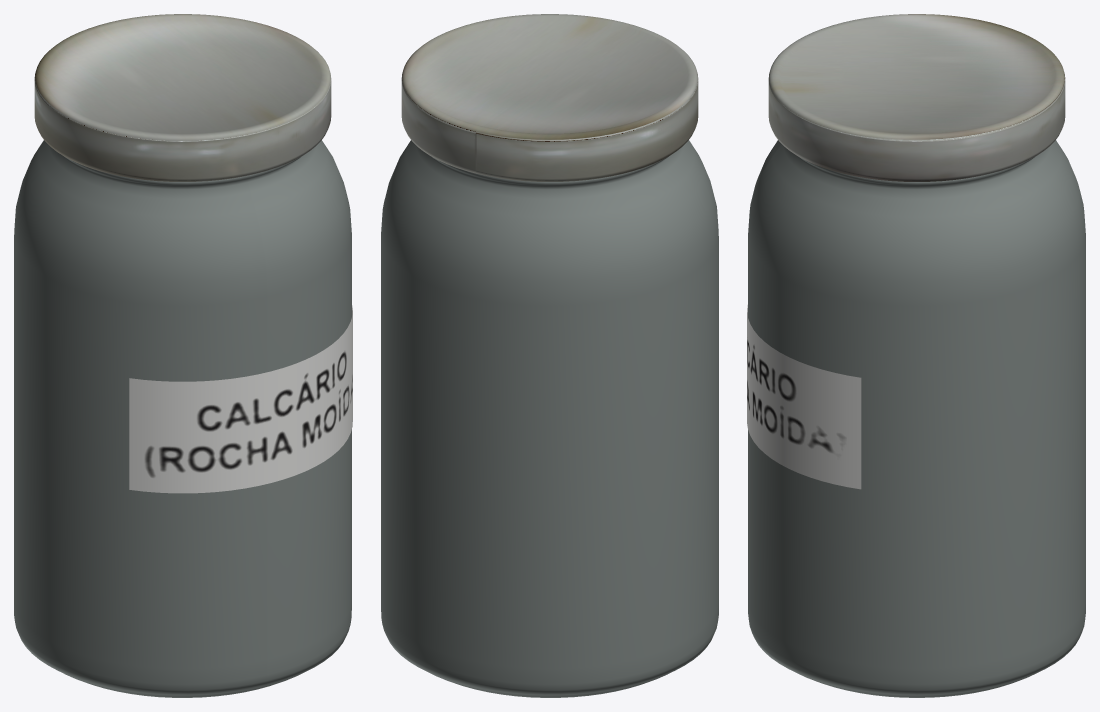
Rendered from calcario_moido_13_05_web.glb.
3 views of the same model, side by side, from view 1: azimuth 30°, elevation 25°; view 2: azimuth 150°, elevation 25°; view 3: azimuth 270°, elevation 25° (orthographic).
Parts seen in each view (by area): view 1: Vidro_Pote_Calcario_Moido, Tampa_Pote_Calcario_Moido, Rotulo_Pote_Calcario_Moido; view 2: Vidro_Pote_Calcario_Moido, Tampa_Pote_Calcario_Moido; view 3: Vidro_Pote_Calcario_Moido, Tampa_Pote_Calcario_Moido, Rotulo_Pote_Calcario_Moido.
Boxes of the visible parts, left/top/right/bottom form: Vidro_Pote_Calcario_Moido: left=14, top=140, right=351, bottom=697; Tampa_Pote_Calcario_Moido: left=34, top=14, right=331, bottom=181; Rotulo_Pote_Calcario_Moido: left=129, top=305, right=352, bottom=493; Vidro_Pote_Calcario_Moido: left=381, top=140, right=718, bottom=697; Tampa_Pote_Calcario_Moido: left=401, top=14, right=698, bottom=181; Vidro_Pote_Calcario_Moido: left=748, top=140, right=1085, bottom=697; Tampa_Pote_Calcario_Moido: left=768, top=14, right=1065, bottom=181; Rotulo_Pote_Calcario_Moido: left=747, top=305, right=861, bottom=489.
Bounding box in the file's own units: 0.082 × 0.1503 × 0.0822.
5 materials, 3 textured.
